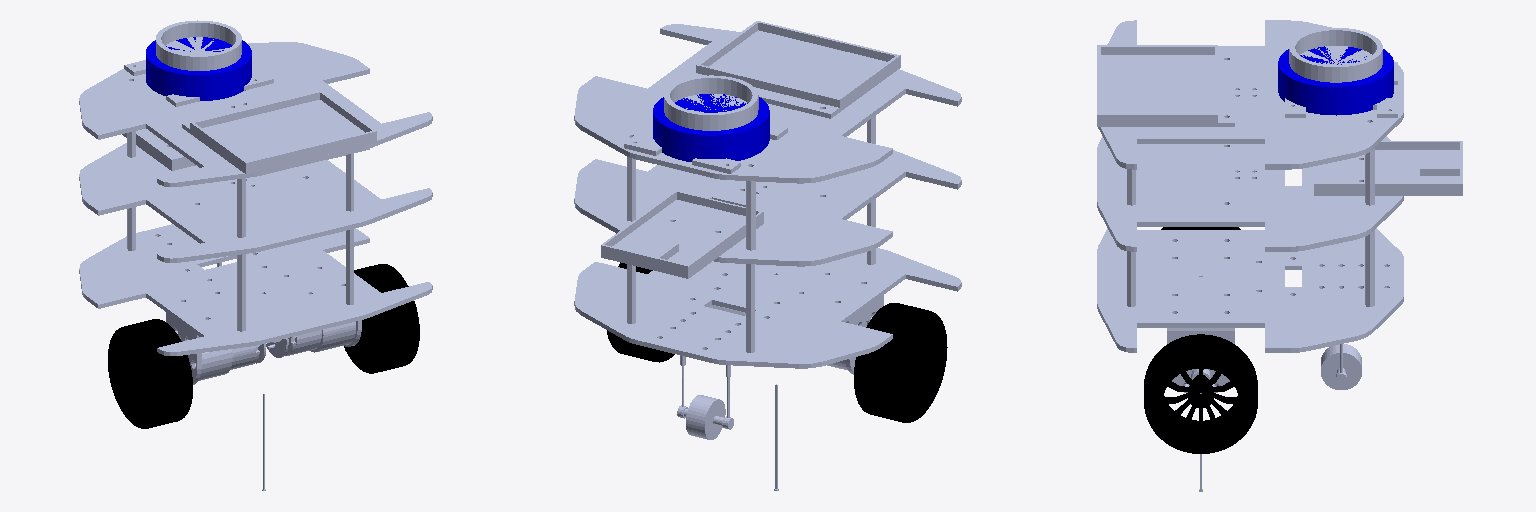
URDF robot description (wheel_chair_robot):
<?xml version="1.0" encoding="utf-8"?>
<!-- This URDF was automatically created by SolidWorks to URDF Exporter! Originally created by [author] ([email redacted]) 
     Commit Version: 1.6.0-1-g15f4949  Build Version: 1.6.7594.29634
     For more information, please see http://wiki.ros.org/sw_urdf_exporter -->
<robot
  name="wheel_chair_robot">
  
  <link
    name="base_footprint">
    <inertial>
      <origin
        xyz="5.41034890439227E-20 2.2865873310991E-18 -0.0353753976311337"
        rpy="0 0 0" />
      <mass
        value="7.09200000000001E-05" />
      <inertia
        ixx="2.93340926097869E-08"
        ixy="-3.85037082822614E-27"
        ixz="3.60459939671844E-27"
        iyy="2.93340926097869E-08"
        iyz="1.84769596144008E-24"
        izz="1.382E-11" />
    </inertial>
    <visual>
      <origin
        xyz="0 0 0"
        rpy="0 0 0" />
      <geometry>
        <mesh
          filename="package://wheel_chair_robot/meshes/base_for_print_link.STL" />
      </geometry>
      <material
        name="">
        <color
          rgba="0.792156862745098 0.819607843137255 0.933333333333333 1" />
      </material>
    </visual>
    <collision>
      <origin
        xyz="0 0 0"
        rpy="0 0 0" />
      <geometry>
        <mesh
          filename="package://wheel_chair_robot/meshes/base_for_print_link.STL" />
      </geometry>
    </collision>
  </link>
  <link
    name="base_link">
    <inertial>
      <origin
        xyz="-0.000183927413758982 0.122740439529099 -0.0288849781882508"
        rpy="0 0 0" />
      <mass
        value="0.471290238762329" />
      <inertia
        ixx="0.000718160491232769"
        ixy="6.15110268523059E-10"
        ixz="-1.16572820178802E-08"
        iyy="0.00133061138183249"
        iyz="1.38556065851481E-07"
        izz="0.000639912786707179" />
    </inertial>
    <visual>
      <origin
        xyz="0 0 0"
        rpy="0 0 0" />
      <geometry>
        <mesh
          filename="package://wheel_chair_robot/meshes/base_link.STL" />
      </geometry>
      <material
        name="">
        <color
          rgba="0.792156862745098 0.819607843137255 0.933333333333333 1" />
      </material>
    </visual>
    <collision>
      <origin
        xyz="0 0 0"
        rpy="0 0 0" />
      <geometry>
        <mesh
          filename="package://wheel_chair_robot/meshes/base_link.STL" />
      </geometry>
    </collision>
  </link>
  <joint
    name="base_joint"
    type="fixed">
    <origin
      xyz="0 0 0"
      rpy="0 0 0" />
    <parent
      link="base_footprint" />
    <child
      link="base_link" />
    <axis
      xyz="0 0 0" />
  </joint>
  <link
    name="wheel_L_link">
    <inertial>
      <origin
        xyz="-0.016617 -8.7963E-12 -7.3698E-07"
        rpy="0 0 0" />
      <mass
        value="0.053158" />
      <inertia
        ixx="4.0958E-05"
        ixy="3.054E-15"
        ixz="2.443E-10"
        iyy="2.3293E-05"
        iyz="5.1359E-16"
        izz="2.3293E-05" />
    </inertial>
    <visual>
      <origin
        xyz="0 0 0"
        rpy="0 0 0" />
      <geometry>
        <mesh
          filename="package://wheel_chair_robot/meshes/wheel_L_link.STL" />
      </geometry>
      <material
        name="">
        <color
          rgba="0 0 0 1" />
      </material>
    </visual>
    <collision>
      <origin
        xyz="0 0 0"
        rpy="0 0 0" />
      <geometry>
        <mesh
          filename="package://wheel_chair_robot/meshes/wheel_L_link.STL" />
      </geometry>
    </collision>
  </link>
  <joint
    name="wheel_L_joint"
    type="continuous">
    <origin
      xyz="-0.0669 0 0.033497"
      rpy="3.1416 0 0" />
    <parent
      link="base_link" />
    <child
      link="wheel_L_link" />
    <axis
      xyz="1 0 0" />
  </joint>
  <link
    name="wheel_R_link">
    <inertial>
      <origin
        xyz="-0.016617 -8.7964E-12 -7.3698E-07"
        rpy="0 0 0" />
      <mass
        value="0.053158" />
      <inertia
        ixx="4.0958E-05"
        ixy="3.054E-15"
        ixz="2.443E-10"
        iyy="2.3293E-05"
        iyz="5.1359E-16"
        izz="2.3293E-05" />
    </inertial>
    <visual>
      <origin
        xyz="0 0 0"
        rpy="0 0 0" />
      <geometry>
        <mesh
          filename="package://wheel_chair_robot/meshes/wheel_R_link.STL" />
      </geometry>
      <material
        name="">
        <color
          rgba="0 0 0 1" />
      </material>
    </visual>
    <collision>
      <origin
        xyz="0 0 0"
        rpy="0 0 0" />
      <geometry>
        <mesh
          filename="package://wheel_chair_robot/meshes/wheel_R_link.STL" />
      </geometry>
    </collision>
  </link>
  <joint
    name="wheel_R_joint"
    type="continuous">
    <origin
      xyz="0.0669 0 0.033497"
      rpy="1.5708 0 3.1416" />
    <parent
      link="base_link" />
    <child
      link="wheel_R_link" />
    <axis
      xyz="1 0 0" />
  </joint>
  <link
    name="lidar_link">
    <inertial>
      <origin
        xyz="-4.3368E-19 0 0.016956"
        rpy="0 0 0" />
      <mass
        value="0.090366" />
      <inertia
        ixx="2.9262E-05"
        ixy="-9.893E-38"
        ixz="-2.6866E-21"
        iyy="2.9262E-05"
        iyz="3.4542E-21"
        izz="4.6984E-05" />
    </inertial>
    <visual>
      <origin
        xyz="0 0 0"
        rpy="0 0 0" />
      <geometry>
        <mesh
          filename="package://wheel_chair_robot/meshes/lidar_link.STL" />
      </geometry>
      <material
        name="">
        <color
          rgba="0 0 1 1" />
      </material>
    </visual>
    <collision>
      <origin
        xyz="0 0 0"
        rpy="0 0 0" />
      <geometry>
        <mesh
          filename="package://wheel_chair_robot/meshes/lidar_link.STL" />
      </geometry>
    </collision>
  </link>
  <joint
    name="lidar_joint"
    type="fixed">
    <origin
      xyz="-0.002 0.079323 0.20826"
      rpy="0 0 0" />
    <parent
      link="base_link" />
    <child
      link="lidar_link" />
    <axis
      xyz="0 0 1" />
  </joint>
  <link
    name="imu_link">
    <inertial>
      <origin
        xyz="-2.6256E-17 0 0.000865"
        rpy="0 0 0" />
      <mass
        value="0.00066052" />
      <inertia
        ixx="2.8402E-08"
        ixy="4.3419E-24"
        ixz="5.2242E-25"
        iyy="1.6689E-08"
        iyz="-5.5152E-26"
        izz="4.4761E-08" />
    </inertial>
    <visual>
      <origin
        xyz="0 0 0"
        rpy="0 0 0" />
      <geometry>
        <mesh
          filename="package://wheel_chair_robot/meshes/imu_link.STL" />
      </geometry>
      <material
        name="">
        <color
          rgba="1 0 0 1" />
      </material>
    </visual>
    <collision>
      <origin
        xyz="0 0 0"
        rpy="0 0 0" />
      <geometry>
        <mesh
          filename="package://wheel_chair_robot/meshes/imu_link.STL" />
      </geometry>
    </collision>
  </link>
  <joint
    name="imu_joint"
    type="fixed">
    <origin
      xyz="0 0.14042 0.14476"
      rpy="0 0 0" />
    <parent
      link="base_link" />
    <child
      link="imu_link" />
    <axis
      xyz="0 0 0" />
  </joint>
  <link
    name="caster_link">
    <inertial>
      <origin
        xyz="-1.38777878078145E-17 1.73472347597681E-18 -2.36309788418562E-16"
        rpy="0 0 0" />
      <mass
        value="0.00573786372737865" />
      <inertia
        ixx="3.01346626020544E-07"
        ixy="2.97608581872277E-42"
        ixz="1.83836420325763E-22"
        iyy="3.01346626020544E-07"
        iyz="1.95301445843342E-39"
        izz="4.48449911942938E-07" />
    </inertial>
    <visual>
      <origin
        xyz="0 0 0"
        rpy="0 0 0" />
      <geometry>
        <mesh
          filename="package://wheel_chair_robot/meshes/caster_link.STL" />
      </geometry>
      <material
        name="">
        <color
          rgba="0.792156862745098 0.819607843137255 0.933333333333333 1" />
      </material>
    </visual>
    <collision>
      <origin
        xyz="0 0 0"
        rpy="0 0 0" />
      <geometry>
        <mesh
          filename="package://wheel_chair_robot/meshes/caster_link.STL" />
      </geometry>
    </collision>
  </link>
  <joint
    name="caster_joint"
    type="fixed">
    <origin
      xyz="0 0.082473 0.01224"
      rpy="1.5708 0 1.5708" />
    <parent
      link="base_link" />
    <child
      link="caster_link" />
    <axis
      xyz="0 0 1" />
  </joint>
</robot>

--- Facts derived from the render (not from the file) ---
The picture shows the robot from 3 angles, left to right: view 1: azimuth 30°, elevation 25°; view 2: azimuth 150°, elevation 25°; view 3: azimuth 270°, elevation 25°; orthographic projection.
Robot: wheel_chair_robot — 7 links, 6 joints (2 continuous, 4 fixed); root link base_footprint; default pose: all joints at 0.
Links seen in each view (by area): view 1: base_link, wheel_L_link, wheel_R_link, lidar_link; view 2: base_link, wheel_L_link, lidar_link, caster_link, wheel_R_link; view 3: base_link, wheel_R_link, lidar_link, caster_link.
Boxes of the visible links, <box> form: base_link: <box>79,20,432,384</box>; wheel_L_link: <box>108,319,192,428</box>; wheel_R_link: <box>344,264,419,373</box>; lidar_link: <box>146,37,251,100</box>; base_link: <box>574,21,961,429</box>; wheel_L_link: <box>854,303,947,422</box>; lidar_link: <box>653,94,769,161</box>; caster_link: <box>686,395,725,439</box>; wheel_R_link: <box>607,262,674,362</box>; base_link: <box>1097,20,1462,393</box>; wheel_R_link: <box>1144,334,1257,453</box>; lidar_link: <box>1278,46,1393,115</box>; caster_link: <box>1321,344,1361,389</box>.
Size in the robot's own frame: 0.2 by 0.2144 by 0.2862 metres.
6 mesh visuals loaded from 7 distinct referenced files (6 binary STL); not drawn: 1 (reference not matched to a file when rendering).